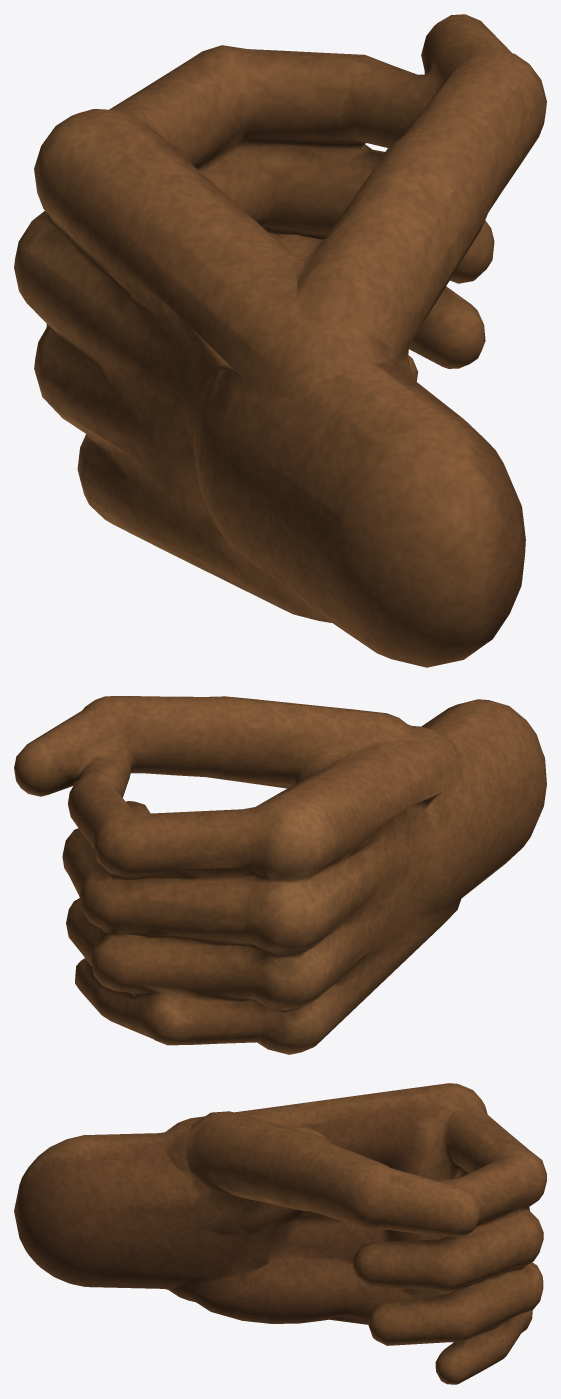
File: fp_hand_frontier.glb
The picture shows the model from 3 angles, top to bottom: view 1: azimuth 30°, elevation 25°; view 2: azimuth 150°, elevation 25°; view 3: azimuth 270°, elevation 25°; orthographic projection. The views are drawn at different scales.
Parts seen in each view (by area): view 1: fp_hand; view 2: fp_hand; view 3: fp_hand.
Part boxes in pixels (x1=…): fp_hand: x1=14, y1=14, x2=546, y2=667; fp_hand: x1=14, y1=696, x2=546, y2=1054; fp_hand: x1=14, y1=1083, x2=546, y2=1384.
Size of the model in its own units: 0.1001 by 0.086 by 0.1649.
Materials: 1 (1 with a texture image).
